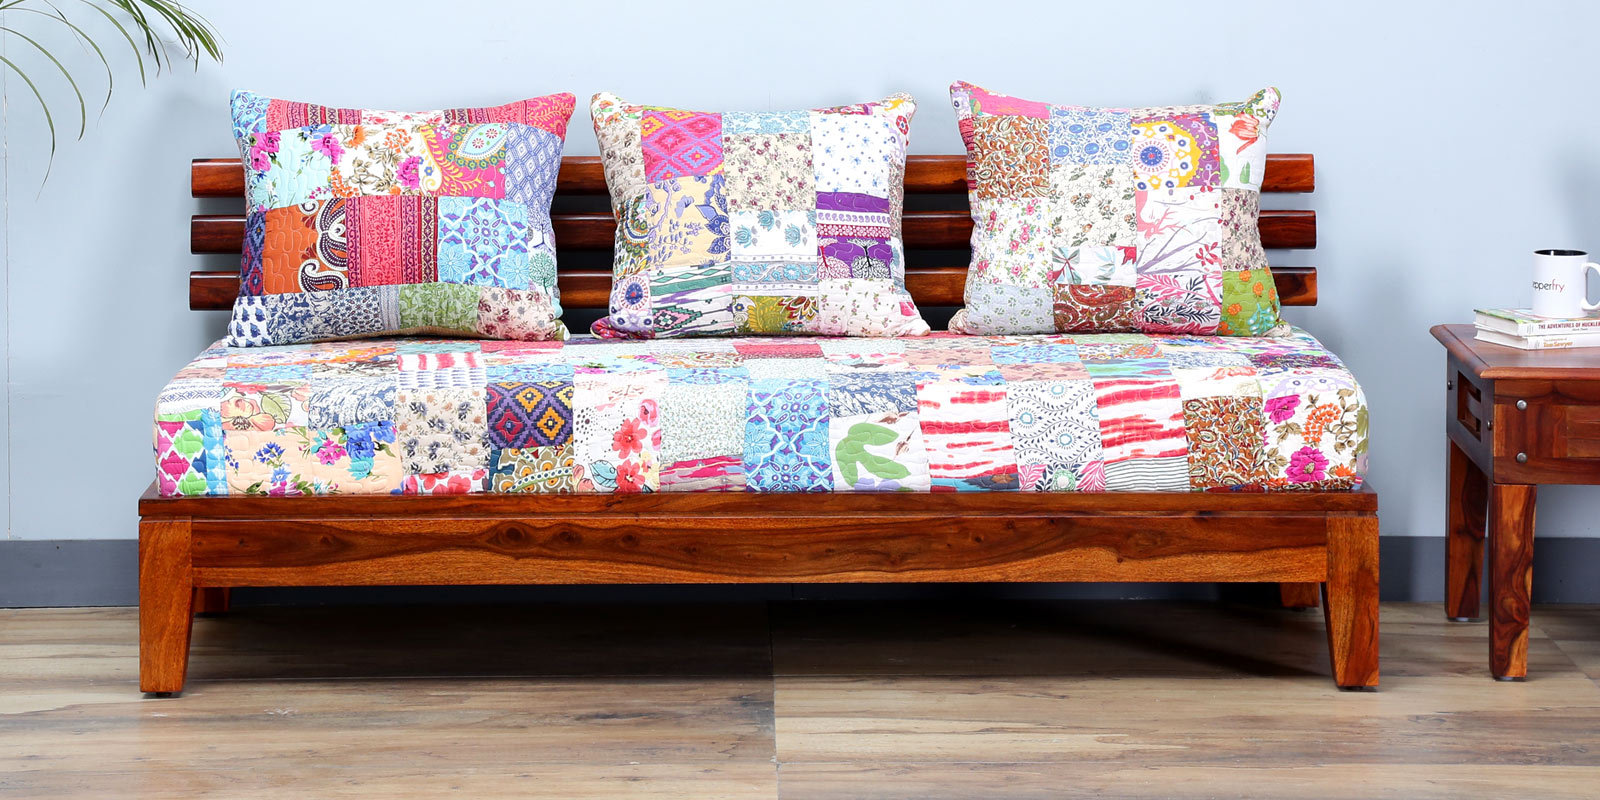Hayden Three Seater Sofa in Honey Oak Finish by Bohemiana: (135, 76, 1408, 711), (1389, 308, 1600, 686)
